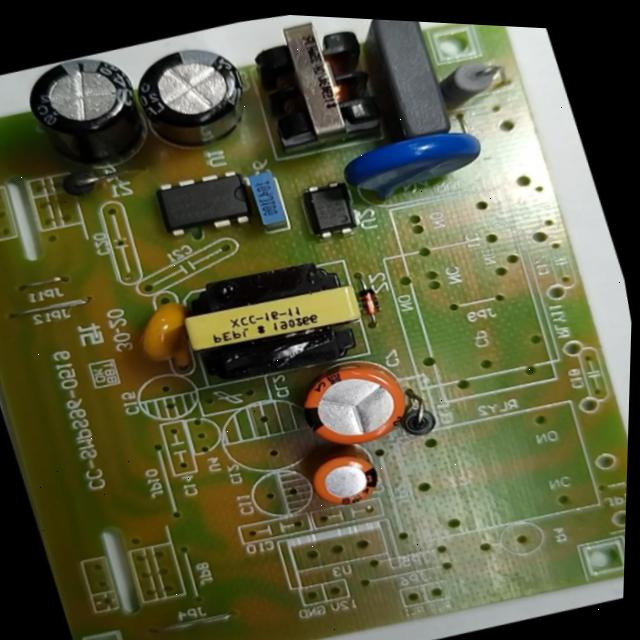Cap1: (270, 341, 436, 469)
Cap2: (284, 423, 397, 527)
Cap3: (111, 19, 280, 175)
Cap4: (0, 34, 186, 209)
MOSFET: (135, 152, 277, 255)
Mov: (326, 105, 506, 226)
Resistor: (425, 42, 524, 128)
Transformer: (152, 236, 395, 414), (232, 12, 414, 174)
